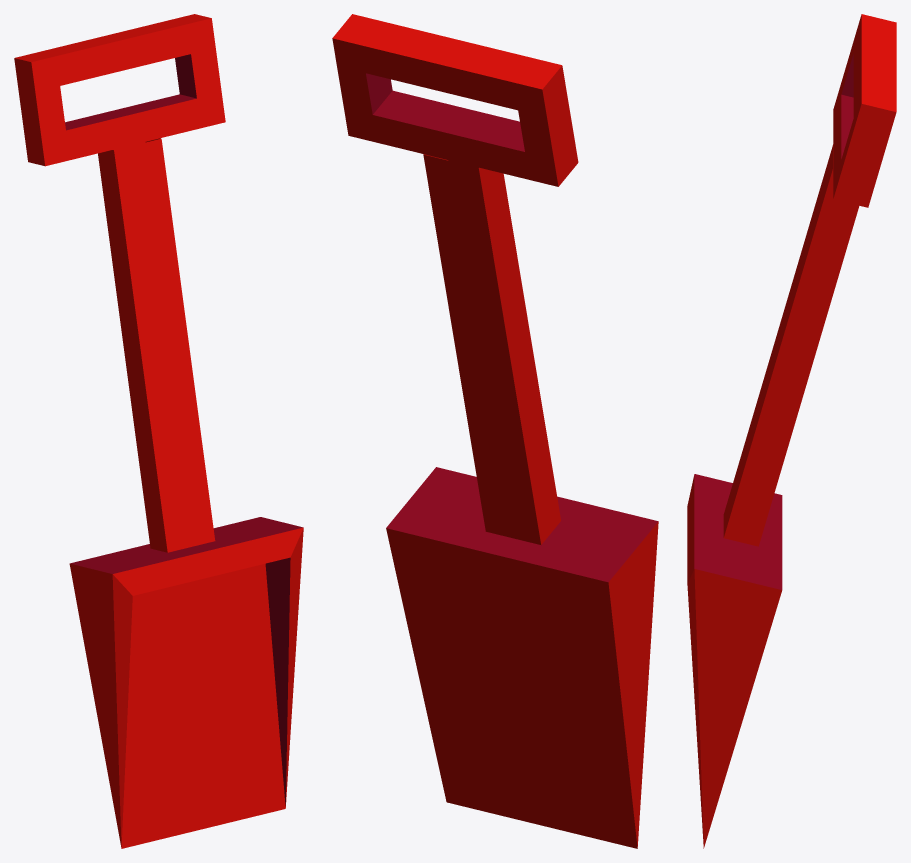
File: ETC0610032.fbx
3 renders of one model, left to right at view 1: azimuth 30°, elevation 25°; view 2: azimuth 150°, elevation 25°; view 3: azimuth 270°, elevation 25°, orthographic. The views are drawn at different scales.
Parts seen in each view (by area): view 1: smETC0610032; view 2: smETC0610032; view 3: smETC0610032.
Boxes of the visible parts, x1,y1,x2,y2 form: smETC0610032: [14, 14, 303, 848]; smETC0610032: [332, 14, 658, 848]; smETC0610032: [687, 14, 896, 848].
Size of the model in its own units: 28.37 by 104 by 26.38.
Materials: 1 (1 with a texture image).
